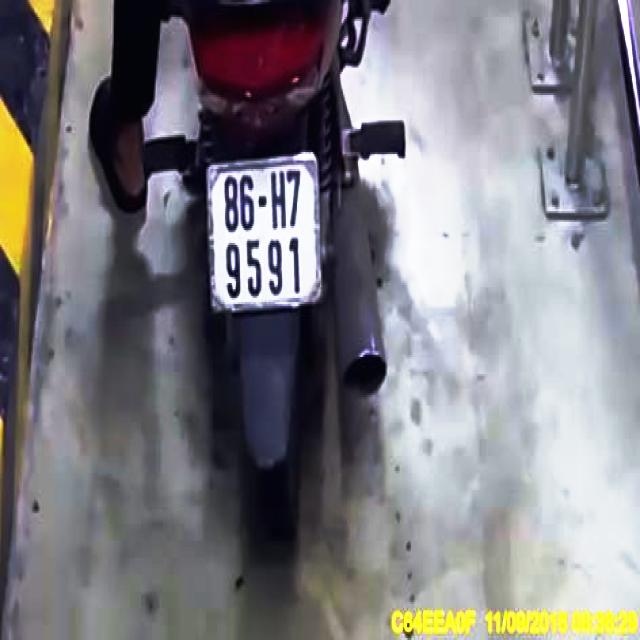license_plate: (209, 155, 322, 311)
